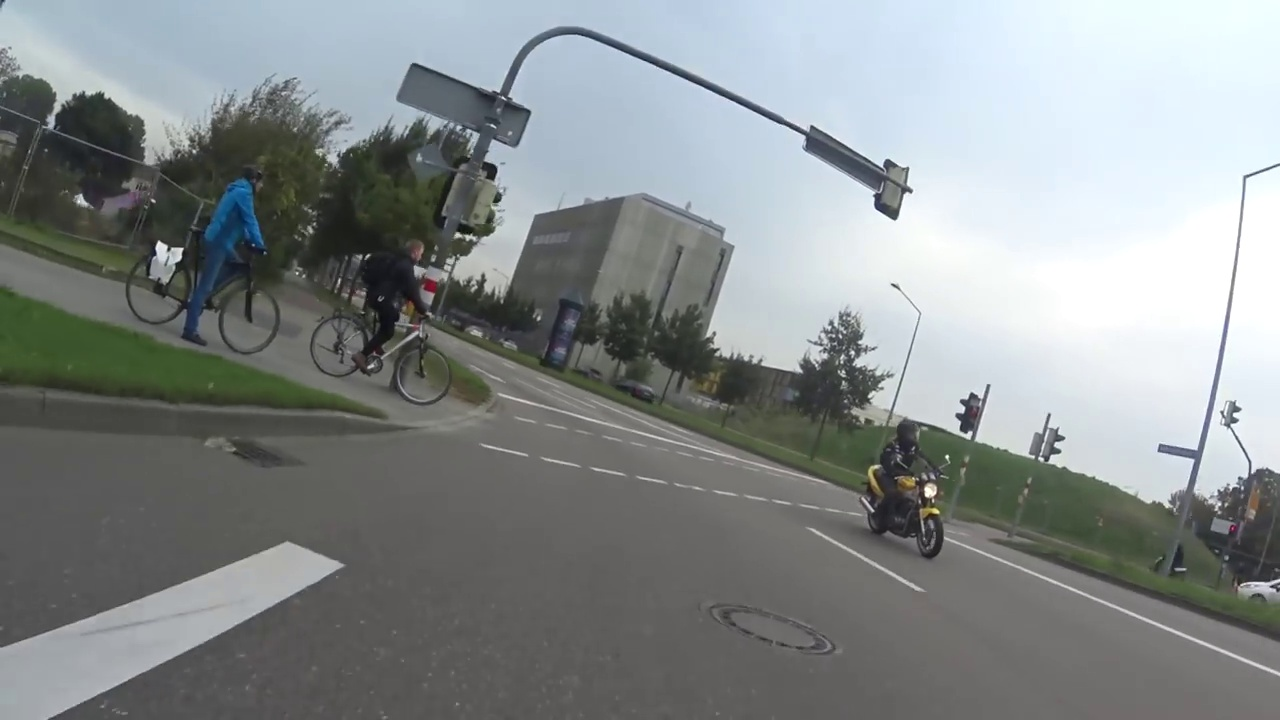cyclist_side: (124, 159, 293, 358), (317, 224, 469, 409), (851, 411, 956, 563)
